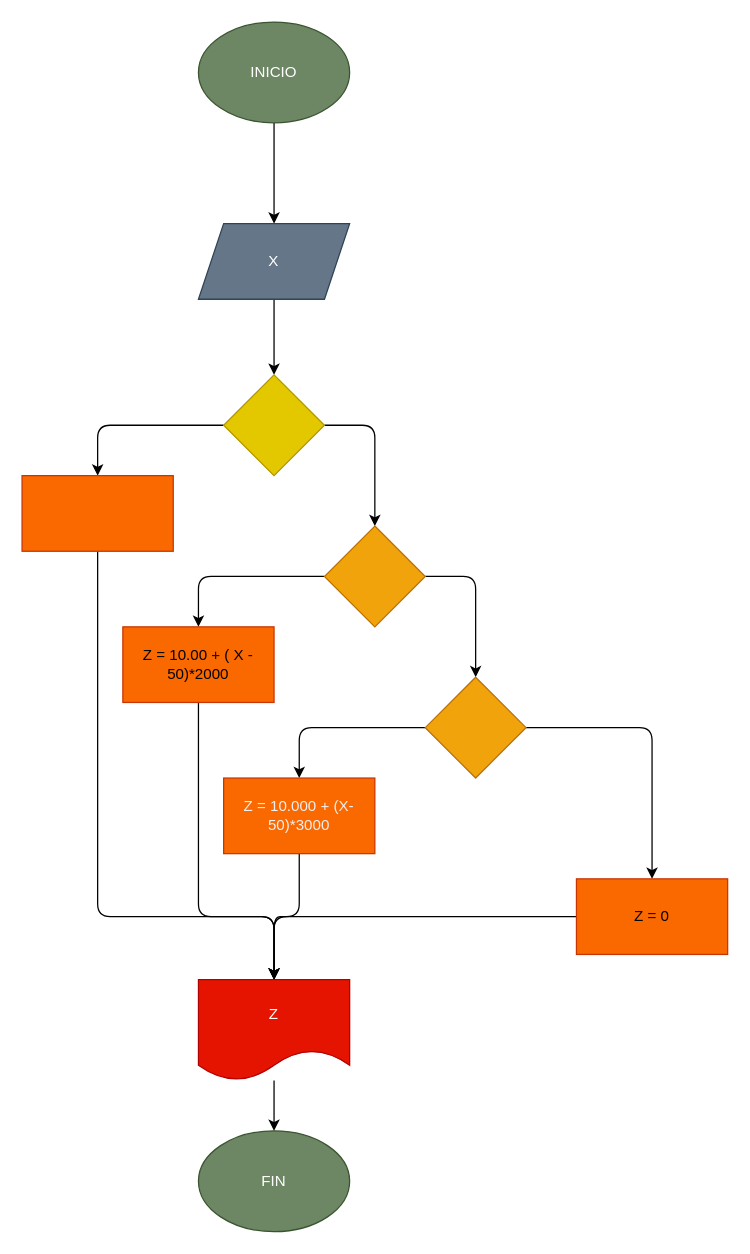
The diagram is 750 pixels wide and 1254 high, and some of its shapes have lost their labels. Here are the shapes that lost their labels. From the top down, the centre of each, then its label:
At [273,425]: "X <= 50".
At [97,512]: "Z = 10.00".
At [374,576]: "X <= 200".
At [475,727]: "X > 200".
